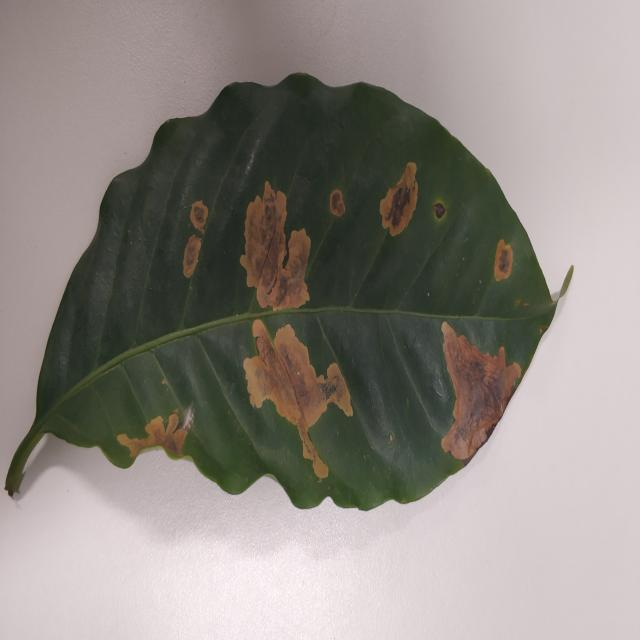Plaga-Minador: (3, 75, 562, 515)
